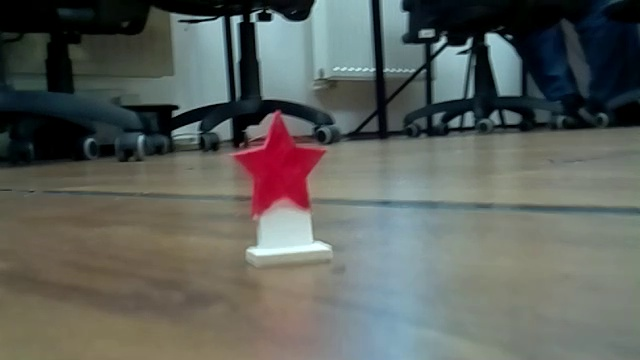star: (218, 110, 351, 275)
